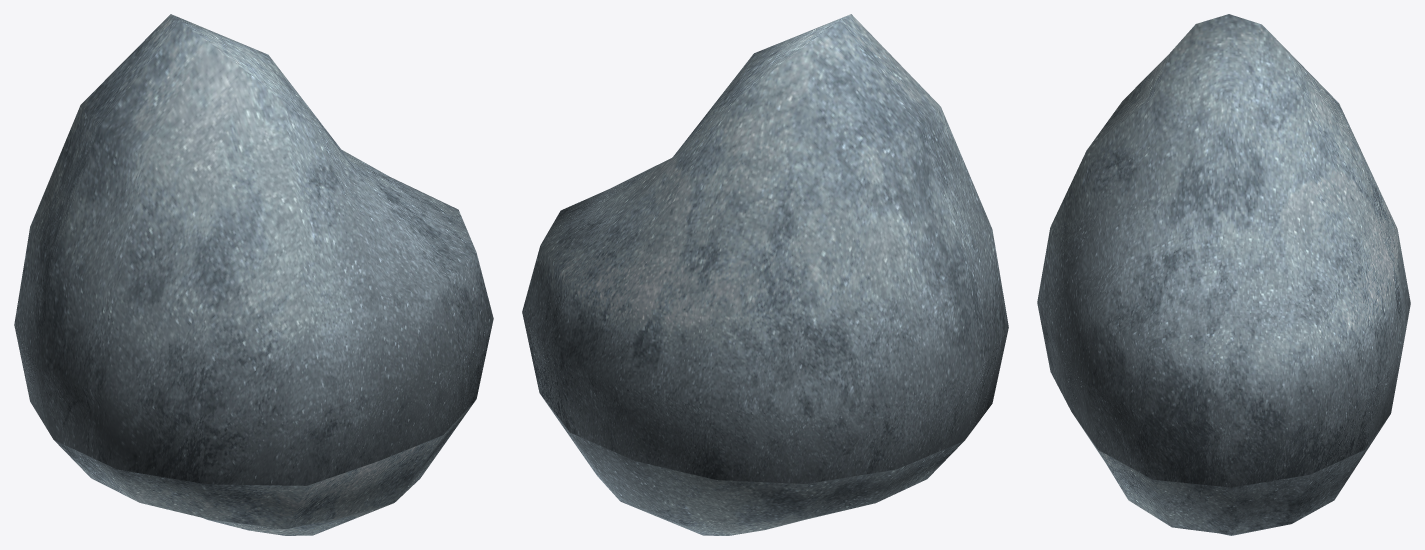
Rendered from STONE_(A).fbx.
The picture shows the model from 3 angles, left to right: view 1: azimuth 30°, elevation 25°; view 2: azimuth 150°, elevation 25°; view 3: azimuth 270°, elevation 25°; orthographic projection. The views are drawn at different scales.
Visible parts, largest first — view 1: pSphere61; view 2: pSphere61; view 3: pSphere61.
Boxes of the visible parts, left/top/right/bottom form: pSphere61: left=14, top=14, right=493, bottom=535; pSphere61: left=522, top=14, right=1008, bottom=535; pSphere61: left=1037, top=14, right=1410, bottom=535.
Size of the model in its own units: 251 by 290 by 212.
